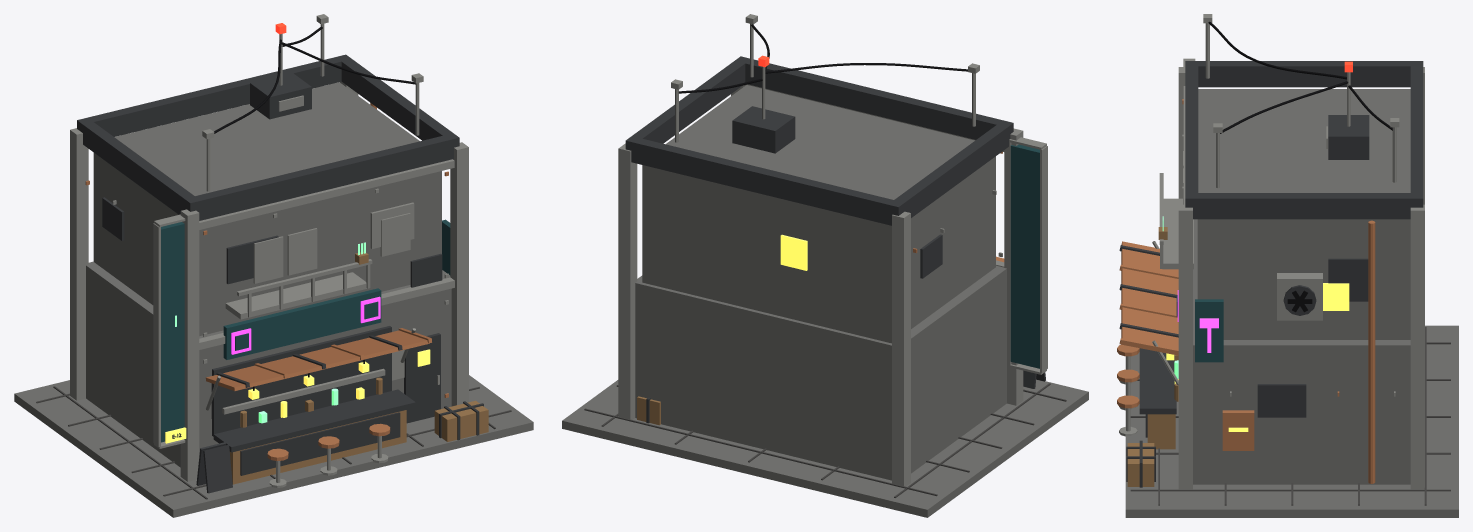
Rendered from SM_MarketBuilding.glb.
3 views of the same model, side by side, from view 1: azimuth 30°, elevation 25°; view 2: azimuth 150°, elevation 25°; view 3: azimuth 270°, elevation 25° (orthographic). The views are drawn at different scales.
Visible parts, largest first — view 1: Main_Block_Floor02, Main_Block_Floor01, Sidewalk_Base_Slab, Roof_Parapet_Front, Shop_Recess_Dark_BackPanel, Roof_Parapet_Back, Sign_Habitat_BackPanel, Sign_JuiceBar_BackPanel, Corner_Post_FrontRight, Corner_Post_BackLeft, Corner_Post_FrontLeft, Shop_Counter_Top (+23 smaller); view 2: Main_Block_Floor02, Main_Block_Floor01, Sidewalk_Base_Slab, Roof_Parapet_Back, Sign_Habitat_BackPanel, Roof_Parapet_Front, Corner_Post_BackLeft, Corner_Post_BackRight, Roof_Parapet_Left, Roof_Parapet_Right, Roof_UtilityBox_Main, Sign_Habitat_Frame_Left (+6 smaller); view 3: Main_Block_Floor02, Main_Block_Floor01, Sidewalk_Base_Slab, Roof_Parapet_Right, Roof_Parapet_Left, Awning_Main_RustSlab, Corner_Post_FrontRight, Corner_Post_BackRight, Shop_Counter_Top, Roof_Parapet_Front, Pipe_Right_Vertical, Roof_Parapet_Back (+16 smaller).
Part boxes in pixels (bbox=[...]): Main_Block_Floor02: bbox=[93, 82, 441, 336]; Main_Block_Floor01: bbox=[86, 261, 451, 467]; Sidewalk_Base_Slab: bbox=[14, 375, 533, 517]; Roof_Parapet_Front: bbox=[184, 135, 459, 220]; Shop_Recess_Dark_BackPanel: bbox=[212, 326, 391, 436]; Roof_Parapet_Back: bbox=[77, 54, 351, 136]; Sign_Habitat_BackPanel: bbox=[161, 222, 184, 442]; Sign_JuiceBar_BackPanel: bbox=[223, 288, 381, 359]; Corner_Post_FrontRight: bbox=[450, 142, 468, 406]; Corner_Post_BackLeft: bbox=[70, 128, 88, 400]; Corner_Post_FrontLeft: bbox=[180, 209, 199, 481]; Shop_Counter_Top: bbox=[213, 389, 415, 452]; Main_Block_Floor02: bbox=[642, 85, 995, 343]; Main_Block_Floor01: bbox=[635, 265, 1006, 480]; Sidewalk_Base_Slab: bbox=[562, 379, 1088, 517]; Roof_Parapet_Back: bbox=[625, 136, 904, 225]; Sign_Habitat_BackPanel: bbox=[1010, 144, 1039, 368]; Roof_Parapet_Front: bbox=[735, 56, 1013, 139]; Corner_Post_BackLeft: bbox=[892, 211, 910, 486]; Corner_Post_BackRight: bbox=[618, 143, 637, 419]; Roof_Parapet_Left: bbox=[892, 125, 1010, 217]; Roof_Parapet_Right: bbox=[630, 59, 746, 143]; Roof_UtilityBox_Main: bbox=[732, 106, 795, 153]; Sign_Habitat_Frame_Left: bbox=[1040, 146, 1047, 372]; Main_Block_Floor02: bbox=[1197, 89, 1410, 339]; Main_Block_Floor01: bbox=[1193, 219, 1410, 484]; Sidewalk_Base_Slab: bbox=[1125, 325, 1458, 517]; Roof_Parapet_Right: bbox=[1192, 193, 1415, 219]; Roof_Parapet_Left: bbox=[1192, 61, 1415, 87]; Awning_Main_RustSlab: bbox=[1121, 241, 1178, 354]; Corner_Post_FrontRight: bbox=[1178, 204, 1192, 489]; Corner_Post_BackRight: bbox=[1410, 204, 1424, 489]; Shop_Counter_Top: bbox=[1139, 348, 1176, 414]; Roof_Parapet_Front: bbox=[1185, 61, 1198, 219]; Pipe_Right_Vertical: bbox=[1368, 220, 1375, 483]; Roof_Parapet_Back: bbox=[1410, 61, 1423, 207].
Size of what is drawn, in the model's own units: 8.5 by 8.18 by 6.67.
